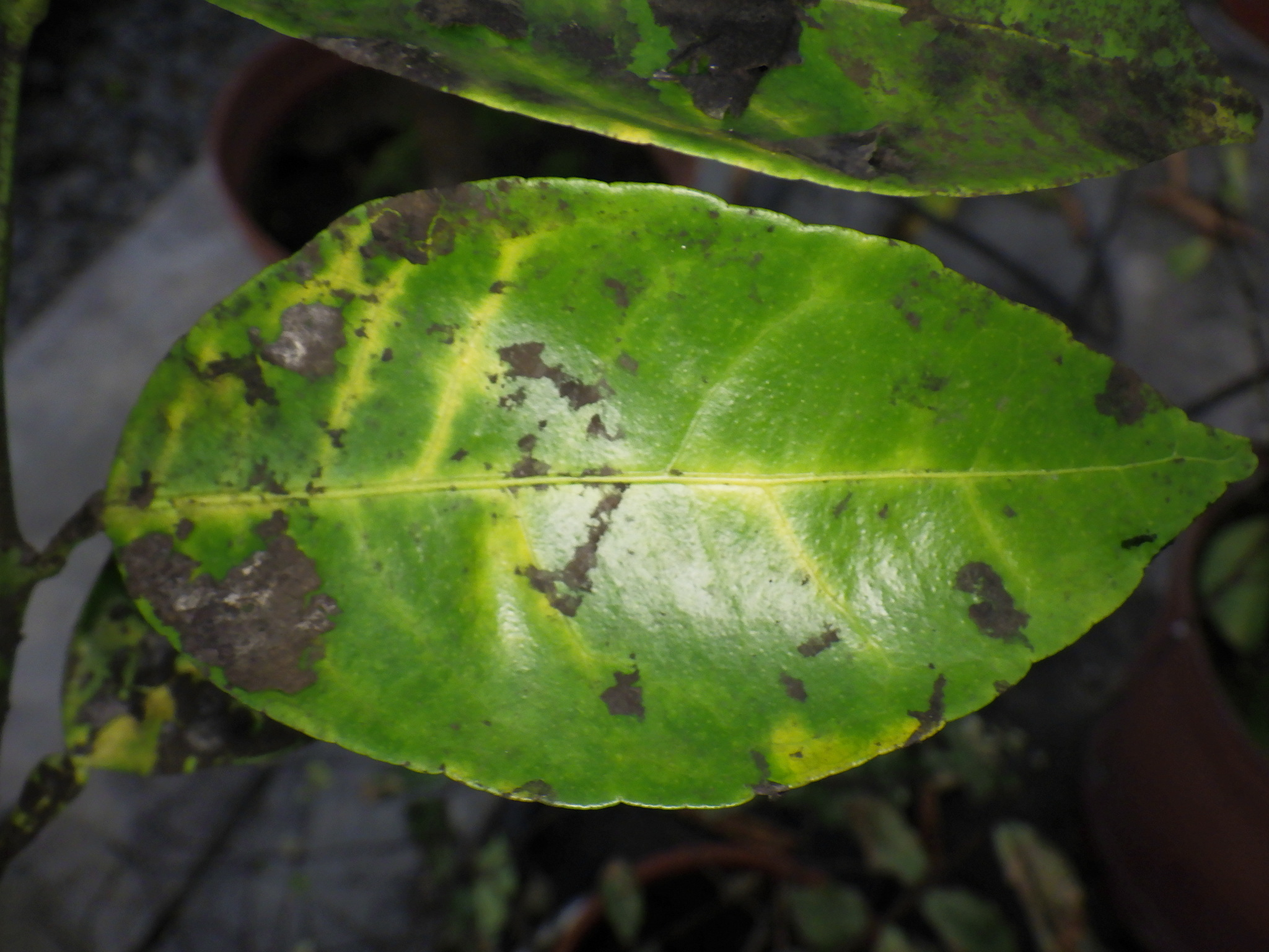Sooty_Mold: (102, 179, 1255, 806)
